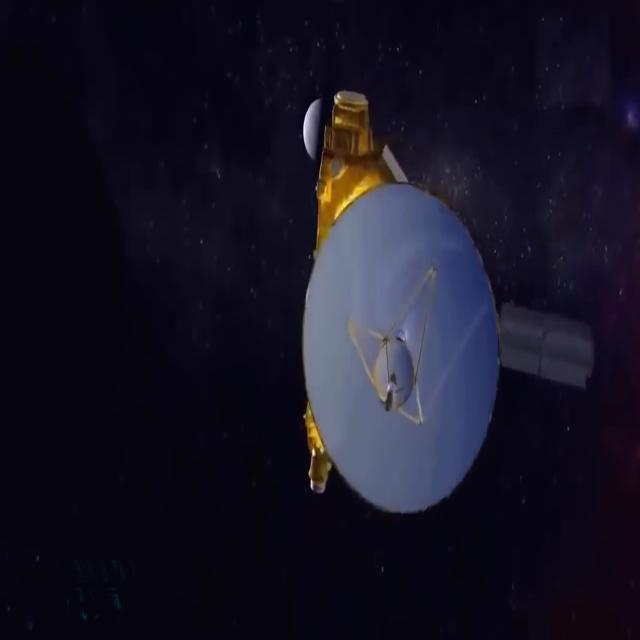satellite: (283, 72, 602, 532)
